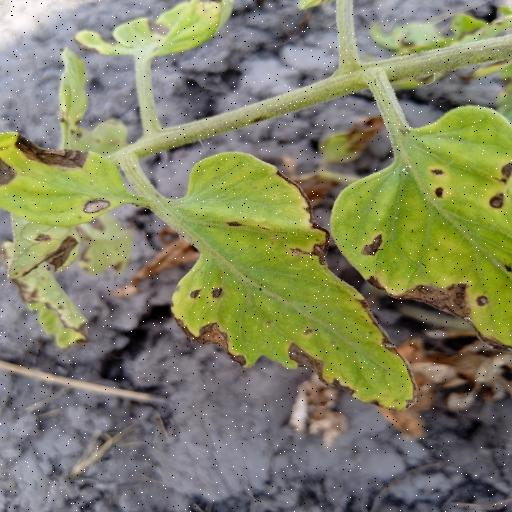Tomato_Brown_Spots: (161, 145, 425, 419)
